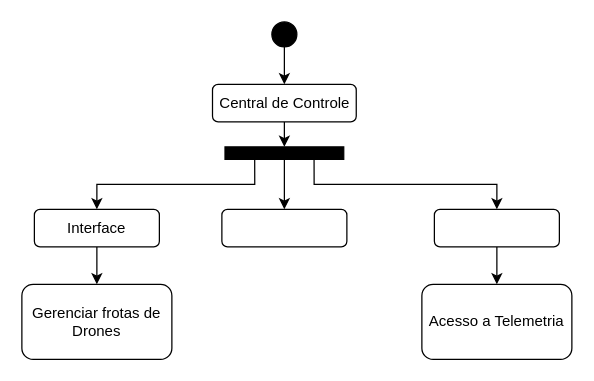
Some shapes in this 594 by 381 pixel diagram are drawn without their labels. The centre of each missing label's shape, as x and y in pixels:
Controle: the point at 284,227
Dashboard: the point at 496,227
